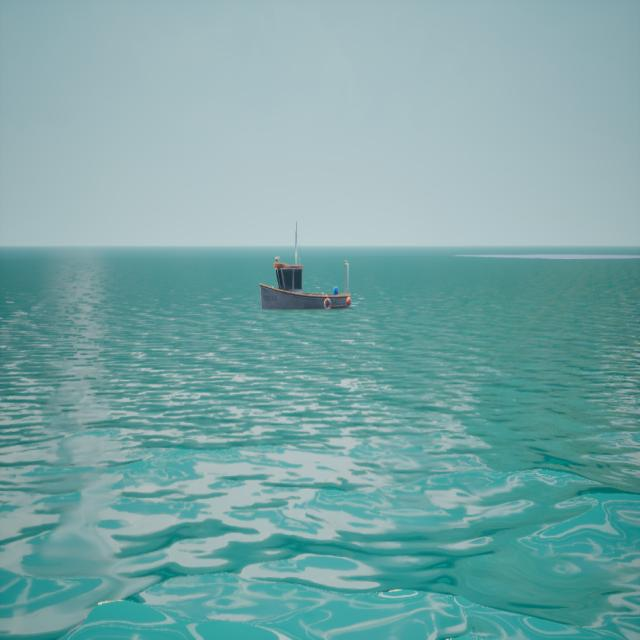ship: (264, 255, 354, 314)
